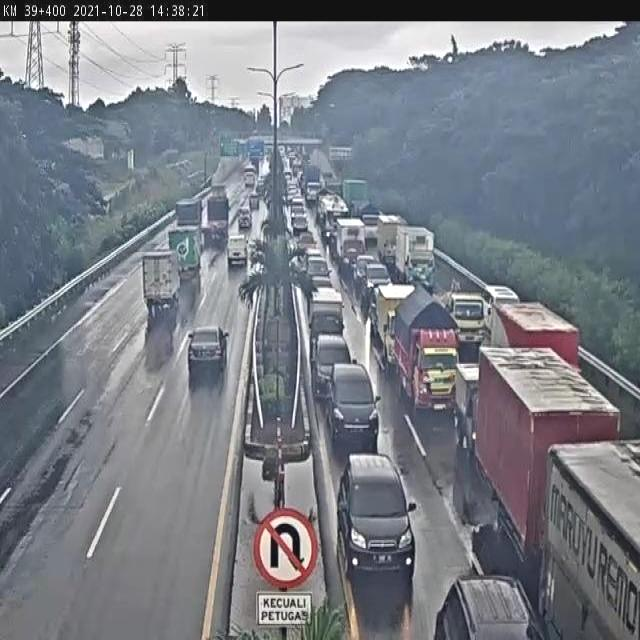Car: (335, 444, 423, 591), (320, 360, 381, 455), (186, 325, 229, 388), (313, 332, 351, 402), (307, 287, 343, 347), (359, 261, 394, 316), (304, 253, 331, 292), (354, 254, 378, 292), (296, 230, 318, 256), (291, 209, 308, 234), (237, 206, 252, 229), (290, 198, 305, 218), (250, 191, 260, 210), (257, 176, 266, 197), (265, 154, 271, 169)
Truck: (539, 442, 638, 637), (395, 298, 468, 414), (492, 304, 580, 372), (141, 250, 182, 348), (395, 225, 436, 290), (375, 215, 407, 273), (168, 226, 201, 278), (202, 187, 230, 248), (244, 168, 256, 188)
Van: (227, 233, 249, 269)
